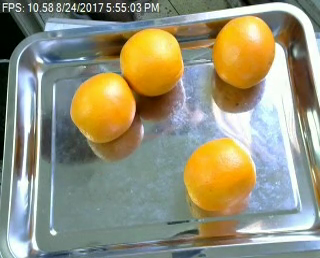Orange: (183, 138, 257, 211), (68, 72, 135, 143), (212, 14, 276, 88), (119, 28, 184, 97)
